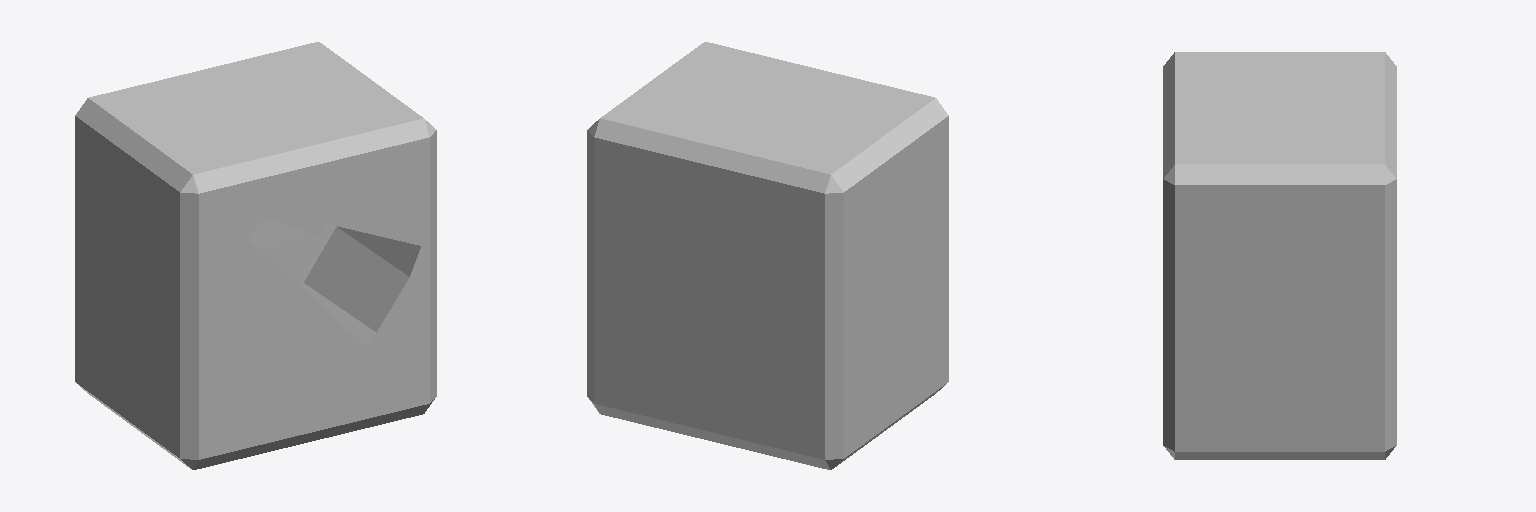
File: Heart Rock.obj
3 renders of one model, left to right at view 1: azimuth 30°, elevation 25°; view 2: azimuth 150°, elevation 25°; view 3: azimuth 270°, elevation 25°, orthographic.
Visible parts, largest first — view 1: Cube.009_Cube.010; view 2: Cube.009_Cube.010; view 3: Cube.009_Cube.010.
Part boxes in pixels (bbox=[...]): Cube.009_Cube.010: bbox=[75, 42, 436, 469]; Cube.009_Cube.010: bbox=[587, 42, 948, 469]; Cube.009_Cube.010: bbox=[1163, 52, 1396, 459].
Size of the model in its own units: 1.83 by 2.02 by 1.44.